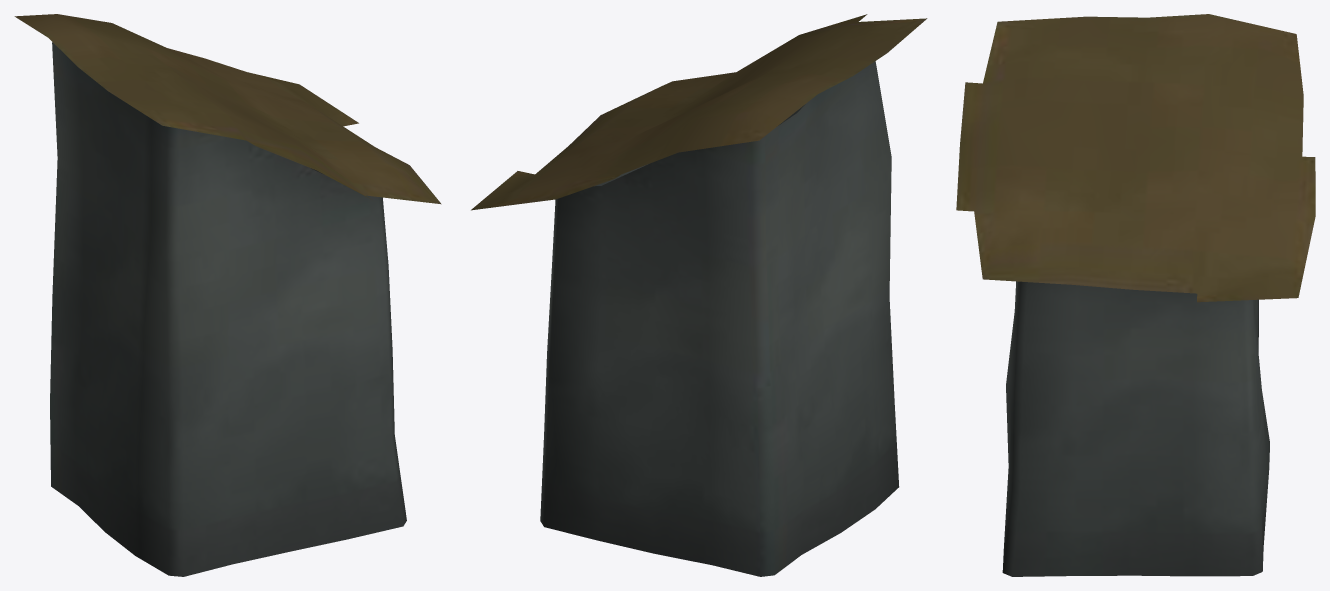
File: MSH_Building_003.glb
3 views of the same model, side by side, from view 1: azimuth 30°, elevation 25°; view 2: azimuth 150°, elevation 25°; view 3: azimuth 270°, elevation 25° (orthographic). The views are drawn at different scales.
Visible parts, largest first — view 1: Base.002; view 2: Base.002; view 3: Base.002.
Part boxes in pixels (<box>): Base.002: <box>14,14,441,576</box>; Base.002: <box>471,14,927,576</box>; Base.002: <box>956,14,1315,576</box>.
Bounding box in the file's own units: 6.9 × 10 × 7.32.
1 material, 1 textured.
